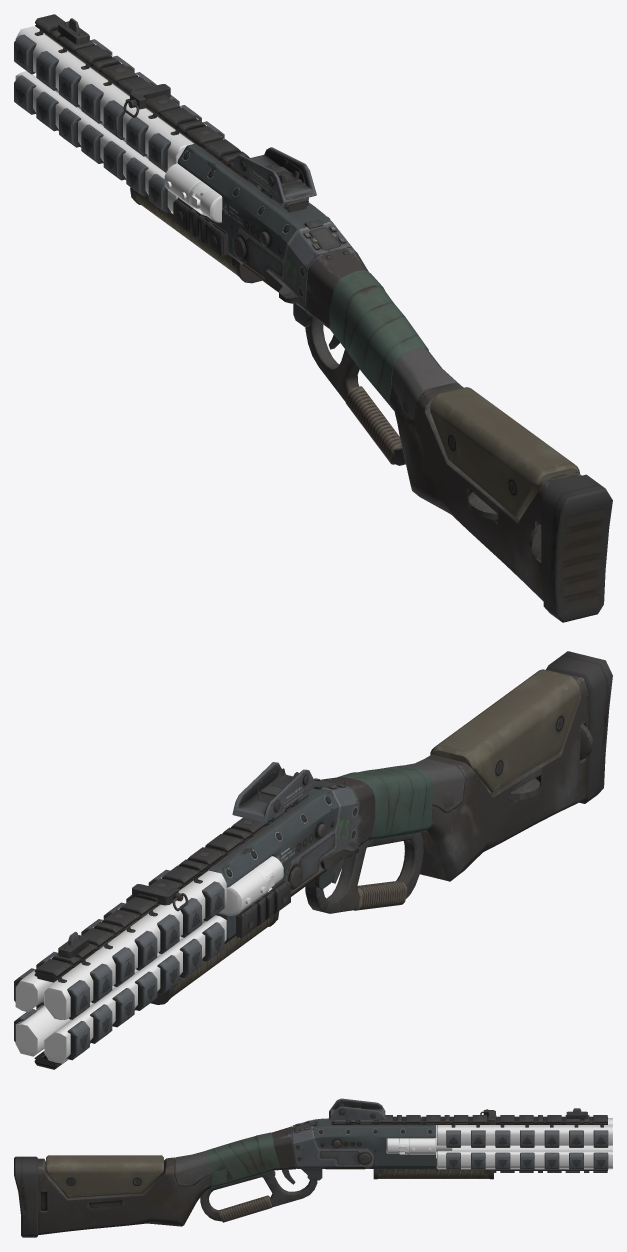
The model's file is apex_peacekeeper.glb.
3 views of the same model, one above another, from view 1: azimuth 30°, elevation 25°; view 2: azimuth 150°, elevation 25°; view 3: azimuth 270°, elevation 25° (orthographic). The views are drawn at different scales.
Visible parts, largest first — view 1: body__tex_apex_peacekeeper_2, body__polymer_0, pump__tex_apex_peacekeeper_m1, irons__tex_apex_peacekeeper_4; view 2: body__tex_apex_peacekeeper_2, body__polymer_0, pump__tex_apex_peacekeeper_m1, irons__tex_apex_peacekeeper_4; view 3: body__tex_apex_peacekeeper_2, body__polymer_0, pump__tex_apex_peacekeeper_m1, irons__tex_apex_peacekeeper_4.
Part boxes in pixels (bbox=[...]): body__tex_apex_peacekeeper_2: bbox=[14, 14, 612, 622]; body__polymer_0: bbox=[15, 26, 223, 222]; pump__tex_apex_peacekeeper_m1: bbox=[130, 187, 405, 465]; irons__tex_apex_peacekeeper_4: bbox=[58, 18, 316, 207]; body__tex_apex_peacekeeper_2: bbox=[14, 651, 612, 1069]; body__polymer_0: bbox=[15, 856, 283, 1063]; pump__tex_apex_peacekeeper_m1: bbox=[150, 832, 423, 1004]; irons__tex_apex_peacekeeper_4: bbox=[58, 762, 316, 958]; body__tex_apex_peacekeeper_2: bbox=[14, 1109, 608, 1237]; body__polymer_0: bbox=[386, 1118, 612, 1169]; pump__tex_apex_peacekeeper_m1: bbox=[200, 1158, 493, 1222]; irons__tex_apex_peacekeeper_4: bbox=[329, 1098, 587, 1123].
Size of the model in its own units: 0.0955 by 0.2628 by 1.1.
2 materials, 1 textured.
